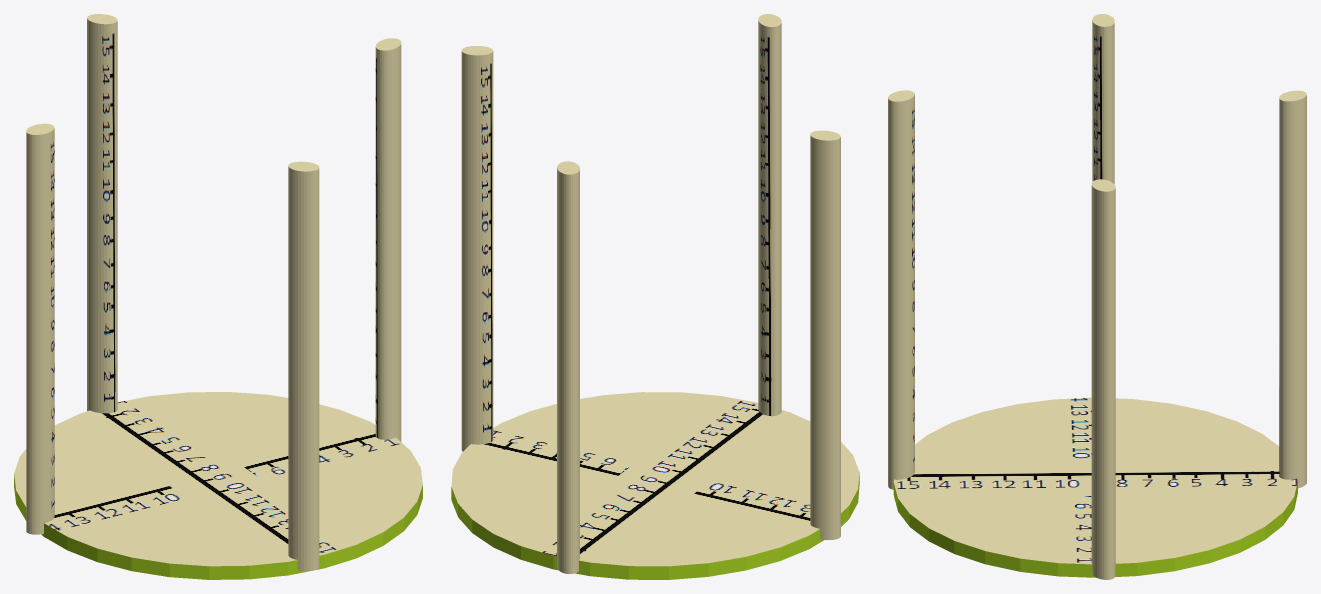
File: scale plane.glb
3 views of the same model, side by side, from view 1: azimuth 30°, elevation 25°; view 2: azimuth 150°, elevation 25°; view 3: azimuth 270°, elevation 25° (orthographic). The views are drawn at different scales.
Parts seen in each view (by area): view 1: plane; view 2: plane; view 3: plane.
Part boxes in pixels (<box>): plane: <box>14,14,422,579</box>; plane: <box>451,14,859,579</box>; plane: <box>888,14,1306,579</box>.
Bounding box in the file's own units: 2.05 × 2.1 × 2.04.
Materials: 2 (2 with a texture image).
